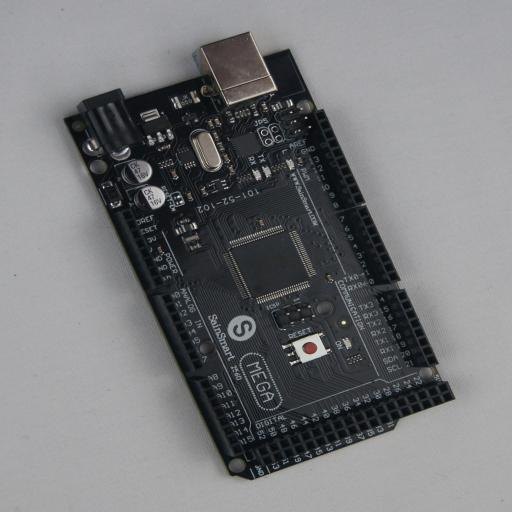Arduino Mega 2560 -Black-: (62, 32, 456, 480)
